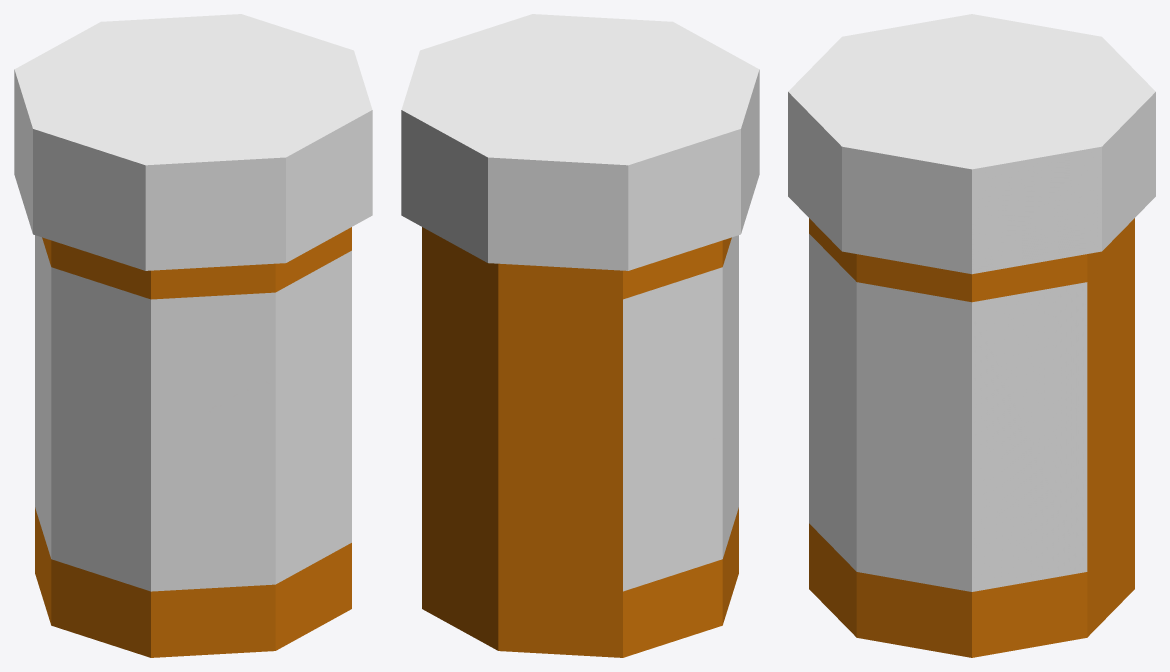
The model's file is pillbottle.FBX.
3 views of the same model, side by side, from view 1: azimuth 30°, elevation 25°; view 2: azimuth 150°, elevation 25°; view 3: azimuth 270°, elevation 25° (orthographic).
Parts seen in each view (by area): view 1: Cylinder001; view 2: Cylinder001; view 3: Cylinder001.
Boxes of the visible parts, x1=… form: Cylinder001: x1=14, y1=14, x2=372, y2=657; Cylinder001: x1=401, y1=14, x2=759, y2=657; Cylinder001: x1=788, y1=14, x2=1155, y2=657.
Bounding box in the file's own units: 3.05 × 4.55 × 3.05.
1 material, 1 textured.
